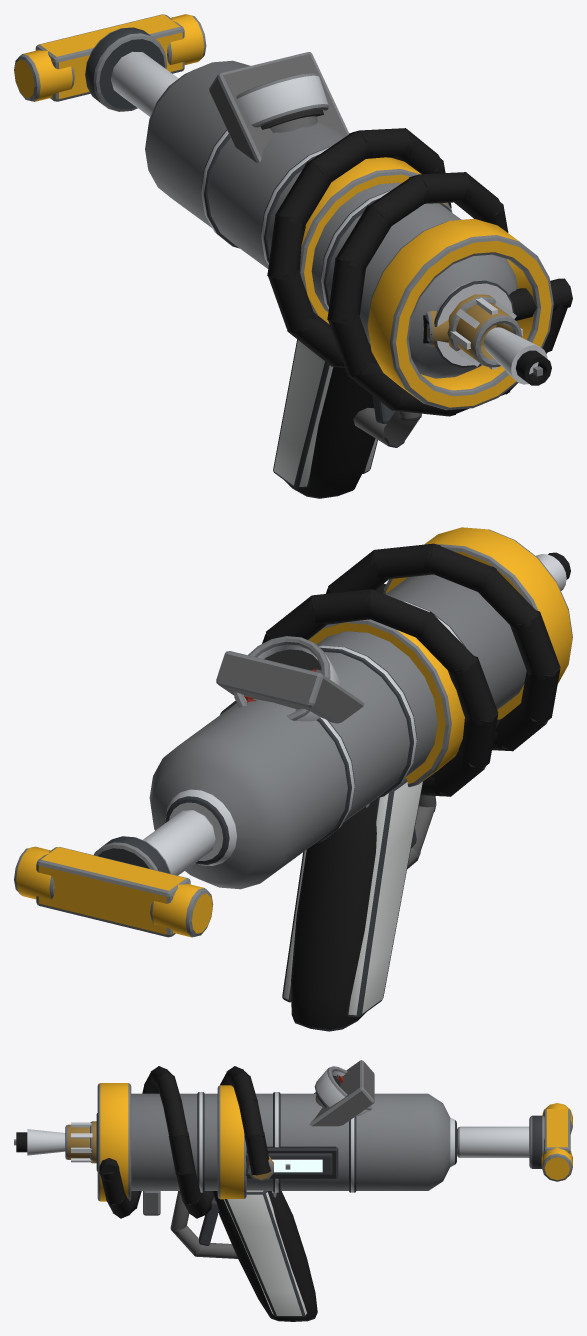
The model's file is inflator_nozzle.fbx.
The picture shows the model from 3 angles, top to bottom: view 1: azimuth 30°, elevation 25°; view 2: azimuth 150°, elevation 25°; view 3: azimuth 270°, elevation 25°; orthographic projection. The views are drawn at different scales.
Visible parts, largest first — view 1: Mesh_SprayerTank_Lance, Mesh_InflatorNozzle_Hose, Mesh_InflatorNozzle_Yoke, Mesh_SprayerGrip_Moulded, Mesh_InflatorNozzle_Plunger, Mesh_DeviceNozzle_Brass, Mesh_DeviceGauge_Dial; view 2: Mesh_SprayerTank_Lance, Mesh_SprayerGrip_Moulded, Mesh_InflatorNozzle_Hose, Mesh_InflatorNozzle_Yoke, Mesh_InflatorNozzle_Plunger, Mesh_DeviceGauge_Dial, Mesh_DeviceNozzle_Brass; view 3: Mesh_SprayerTank_Lance, Mesh_SprayerGrip_Moulded, Mesh_InflatorNozzle_Yoke, Mesh_InflatorNozzle_Hose, Mesh_InflatorNozzle_Plunger, Mesh_DeviceNozzle_Brass, Mesh_SprayerGauge_Plate, Mesh_DeviceGauge_Dial.
Boxes of the visible parts, x1,y1,x2,y2 form: Mesh_SprayerTank_Lance: [145, 60, 517, 378]; Mesh_InflatorNozzle_Hose: [267, 128, 572, 416]; Mesh_InflatorNozzle_Yoke: [209, 52, 553, 410]; Mesh_SprayerGrip_Moulded: [273, 339, 421, 498]; Mesh_InflatorNozzle_Plunger: [14, 14, 206, 116]; Mesh_DeviceNozzle_Brass: [447, 294, 551, 385]; Mesh_DeviceGauge_Dial: [236, 73, 328, 133]; Mesh_SprayerTank_Lance: [149, 574, 526, 889]; Mesh_SprayerGrip_Moulded: [282, 778, 436, 1031]; Mesh_InflatorNozzle_Hose: [262, 543, 560, 796]; Mesh_InflatorNozzle_Yoke: [216, 527, 572, 807]; Mesh_InflatorNozzle_Plunger: [14, 810, 215, 937]; Mesh_DeviceGauge_Dial: [234, 636, 339, 721]; Mesh_DeviceNozzle_Brass: [536, 552, 570, 590]; Mesh_SprayerTank_Lance: [96, 1092, 456, 1192]; Mesh_SprayerGrip_Moulded: [170, 1190, 317, 1321]; Mesh_InflatorNozzle_Yoke: [97, 1060, 374, 1215]; Mesh_InflatorNozzle_Hose: [99, 1066, 273, 1218]; Mesh_InflatorNozzle_Plunger: [457, 1103, 572, 1181]; Mesh_DeviceNozzle_Brass: [16, 1121, 96, 1163]; Mesh_SprayerGauge_Plate: [245, 1146, 338, 1178]; Mesh_DeviceGauge_Dial: [314, 1066, 372, 1116].
Bounding box in the file's own units: 13.62 × 24.11 × 50.09.
